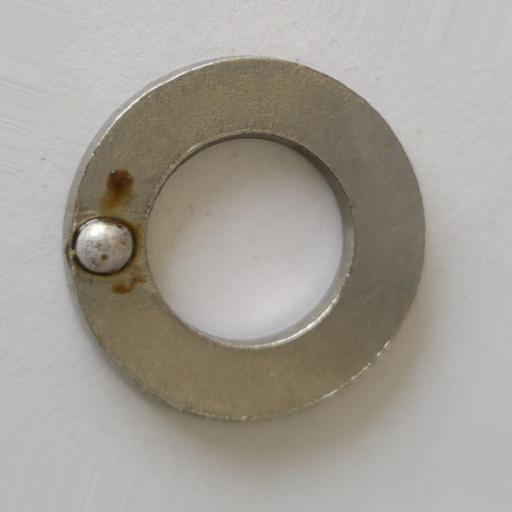excess_material: (70, 216, 138, 276)
